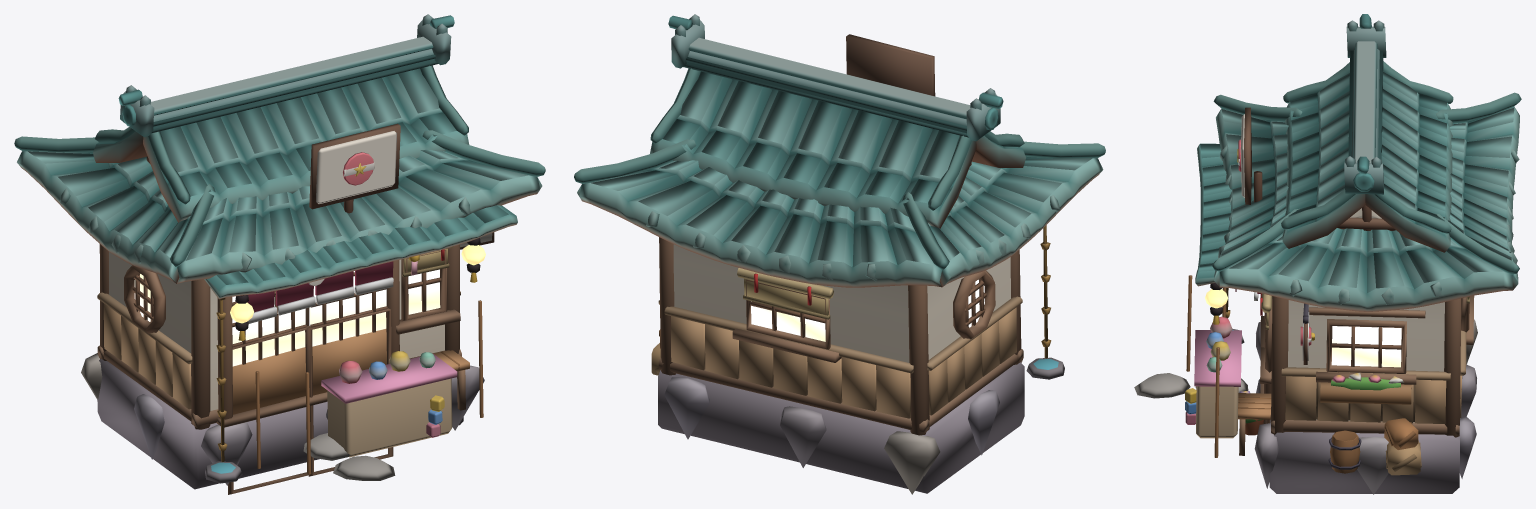
File: shop-2-v7.glb
The picture shows the model from 3 angles, left to right: view 1: azimuth 30°, elevation 25°; view 2: azimuth 150°, elevation 25°; view 3: azimuth 270°, elevation 25°; orthographic projection. The views are drawn at different scales.
Visible parts, largest first — view 1: shop-2-v7, window_glow; view 2: shop-2-v7, window_glow; view 3: shop-2-v7, window_glow.
Part boxes in pixels (<box>): shop-2-v7: <box>14,14,545,494</box>; window_glow: <box>134,245,485,366</box>; shop-2-v7: <box>574,14,1105,494</box>; window_glow: <box>751,279,984,341</box>; shop-2-v7: <box>1134,14,1521,494</box>; window_glow: <box>1205,289,1401,367</box>.
Bounding box in the file's own units: 3.49 × 3.38 × 3.32.
